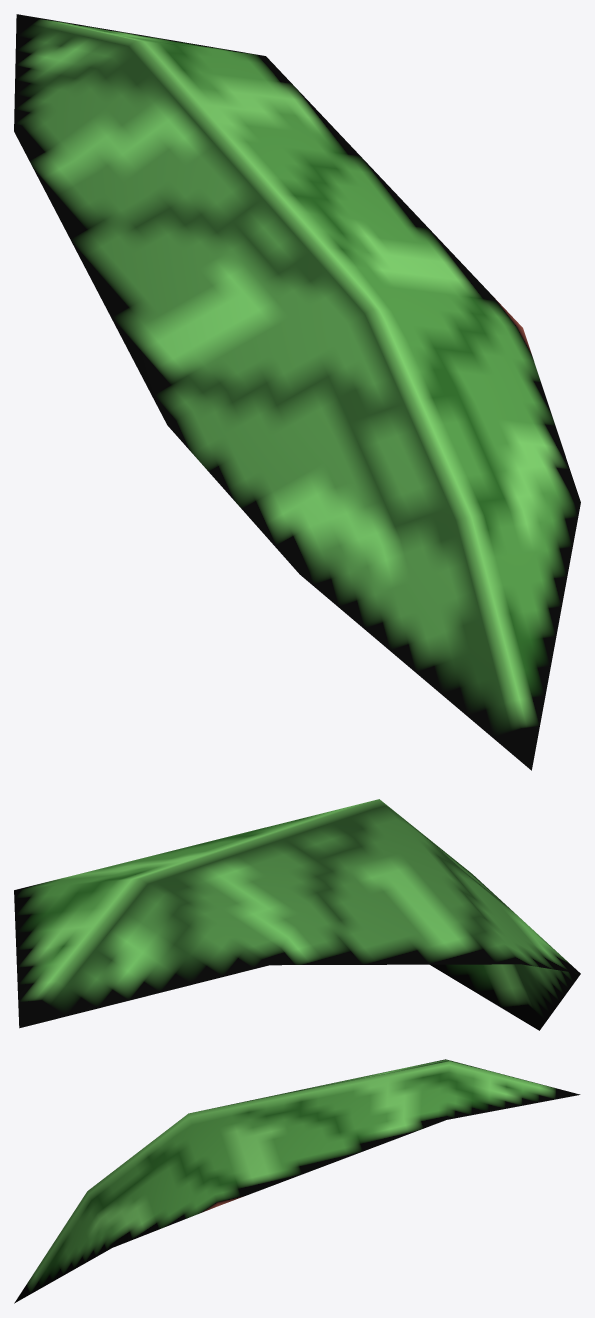
Rendered from deco_leaf.FBX.
3 renders of one model, top to bottom at view 1: azimuth 30°, elevation 25°; view 2: azimuth 150°, elevation 25°; view 3: azimuth 270°, elevation 25°, orthographic. The views are drawn at different scales.
Parts seen in each view (by area): view 1: deco_leaf; view 2: deco_leaf; view 3: deco_leaf.
Boxes of the visible parts, left/top/right/bottom form: deco_leaf: left=14, top=14, right=580, bottom=770; deco_leaf: left=14, top=799, right=580, bottom=1030; deco_leaf: left=14, top=1059, right=580, bottom=1303.
Bounding box in the file's own units: 0.4015 × 0.4821 × 1.02.
1 material, 1 textured.
